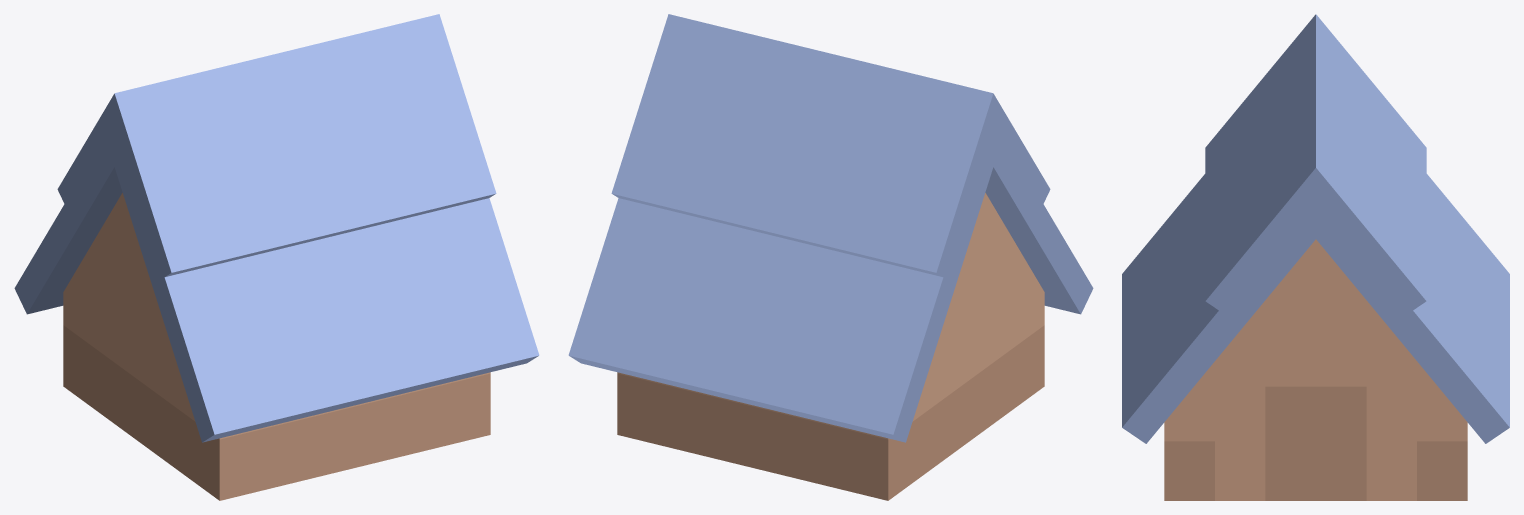
The model's file is unit_house.glb.
3 renders of one model, left to right at view 1: azimuth 30°, elevation 25°; view 2: azimuth 150°, elevation 25°; view 3: azimuth 270°, elevation 25°, orthographic. The views are drawn at different scales.
Parts seen in each view (by area): view 1: unit_house; view 2: unit_house; view 3: unit_house.
Part boxes in pixels (bbox=[...]): unit_house: bbox=[14, 14, 539, 500]; unit_house: bbox=[568, 14, 1093, 500]; unit_house: bbox=[1122, 14, 1509, 500].
Size of the model in its own units: 0.36 by 0.3781 by 0.384.
